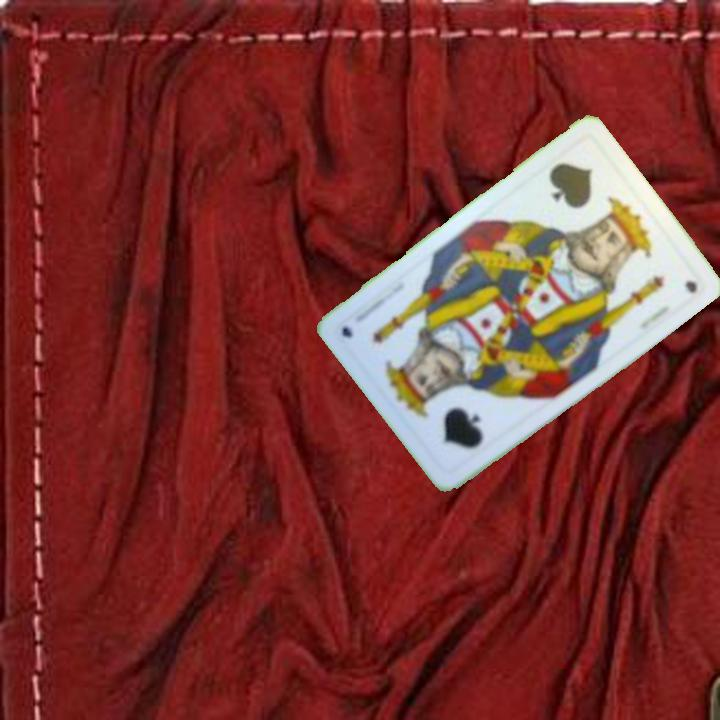s_k.png: (392, 351, 519, 480), (522, 132, 648, 262)
